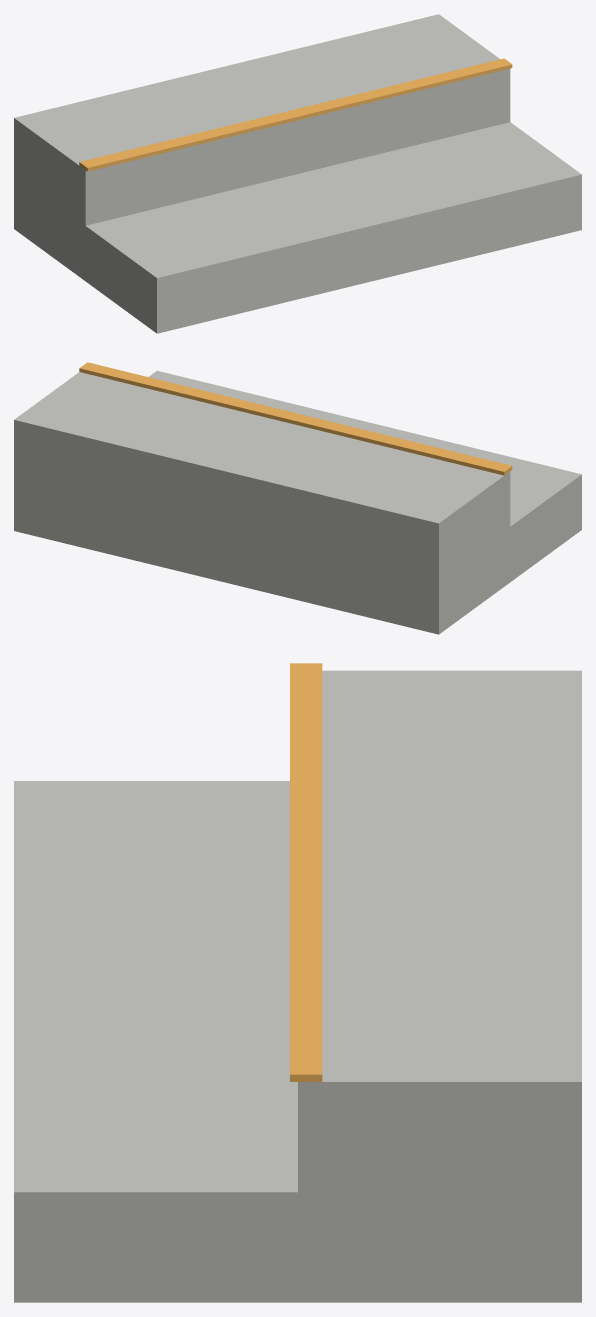
The model's file is pitch-access-step-1ca7cab5.glb.
3 renders of one model, top to bottom at view 1: azimuth 30°, elevation 25°; view 2: azimuth 150°, elevation 25°; view 3: azimuth 270°, elevation 25°, orthographic. The views are drawn at different scales.
Parts seen in each view (by area): view 1: pitch-access-step; view 2: pitch-access-step; view 3: pitch-access-step.
Boxes of the visible parts, <box> form: pitch-access-step: <box>14,14,581,333</box>; pitch-access-step: <box>14,362,581,634</box>; pitch-access-step: <box>14,663,581,1302</box>.
Size of the model in its own units: 1.2 by 0.31 by 0.7.
